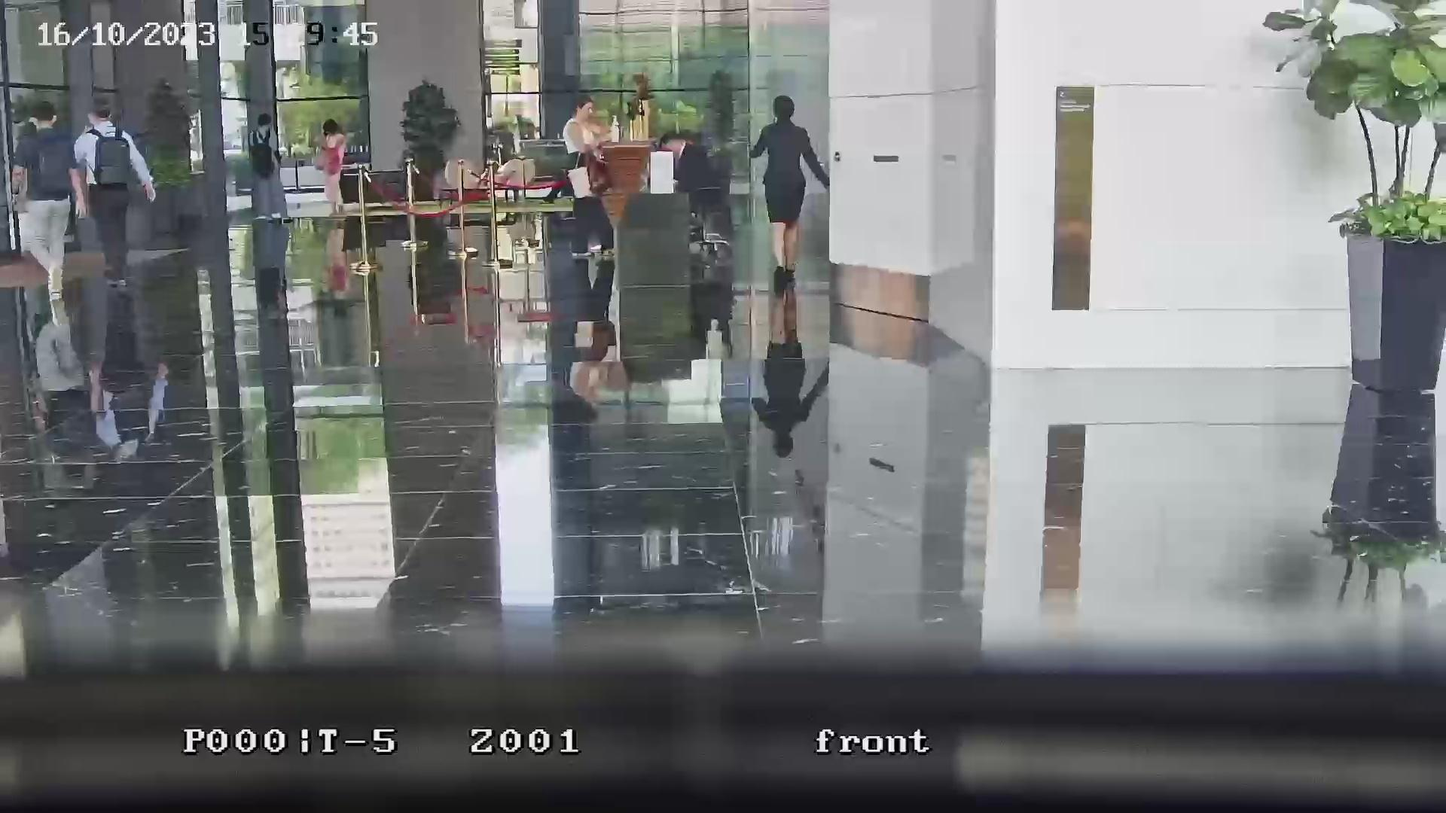person: (72, 99, 157, 287), (749, 94, 830, 273), (10, 101, 80, 292), (563, 96, 615, 257), (563, 95, 614, 194), (249, 114, 287, 221), (313, 119, 348, 213), (629, 72, 660, 143)
